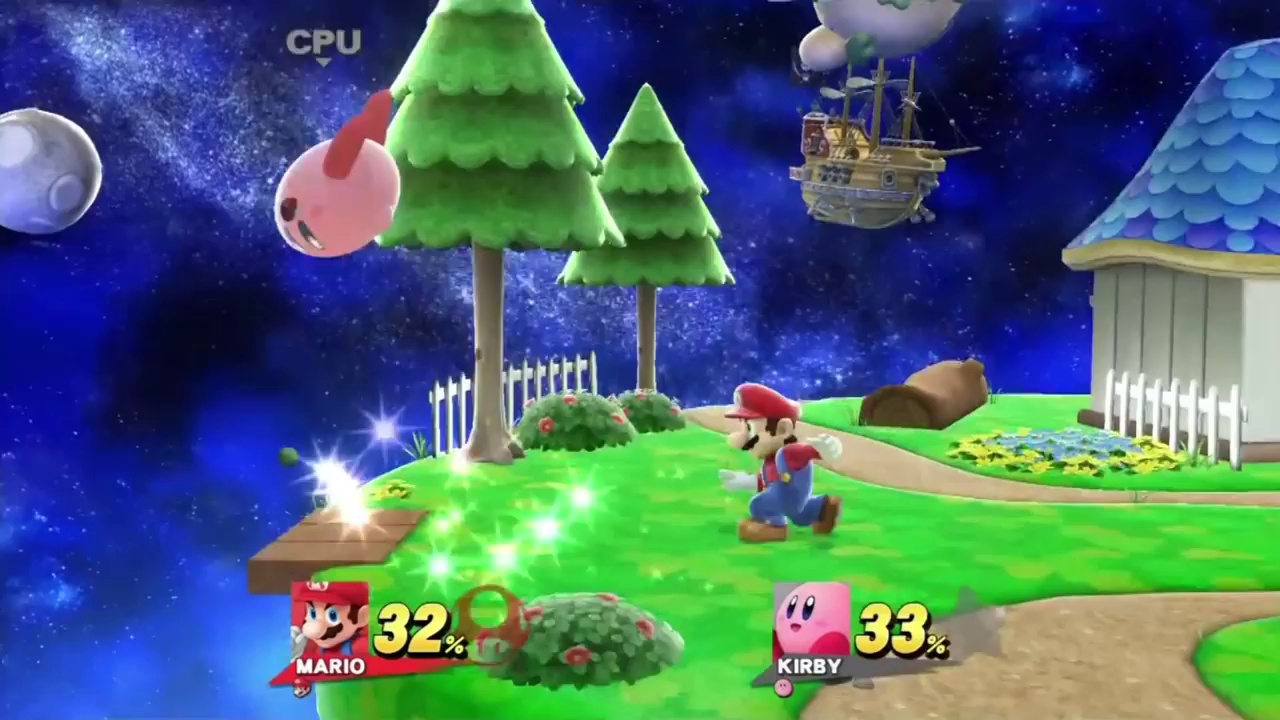Mario: (724, 384, 835, 537)
